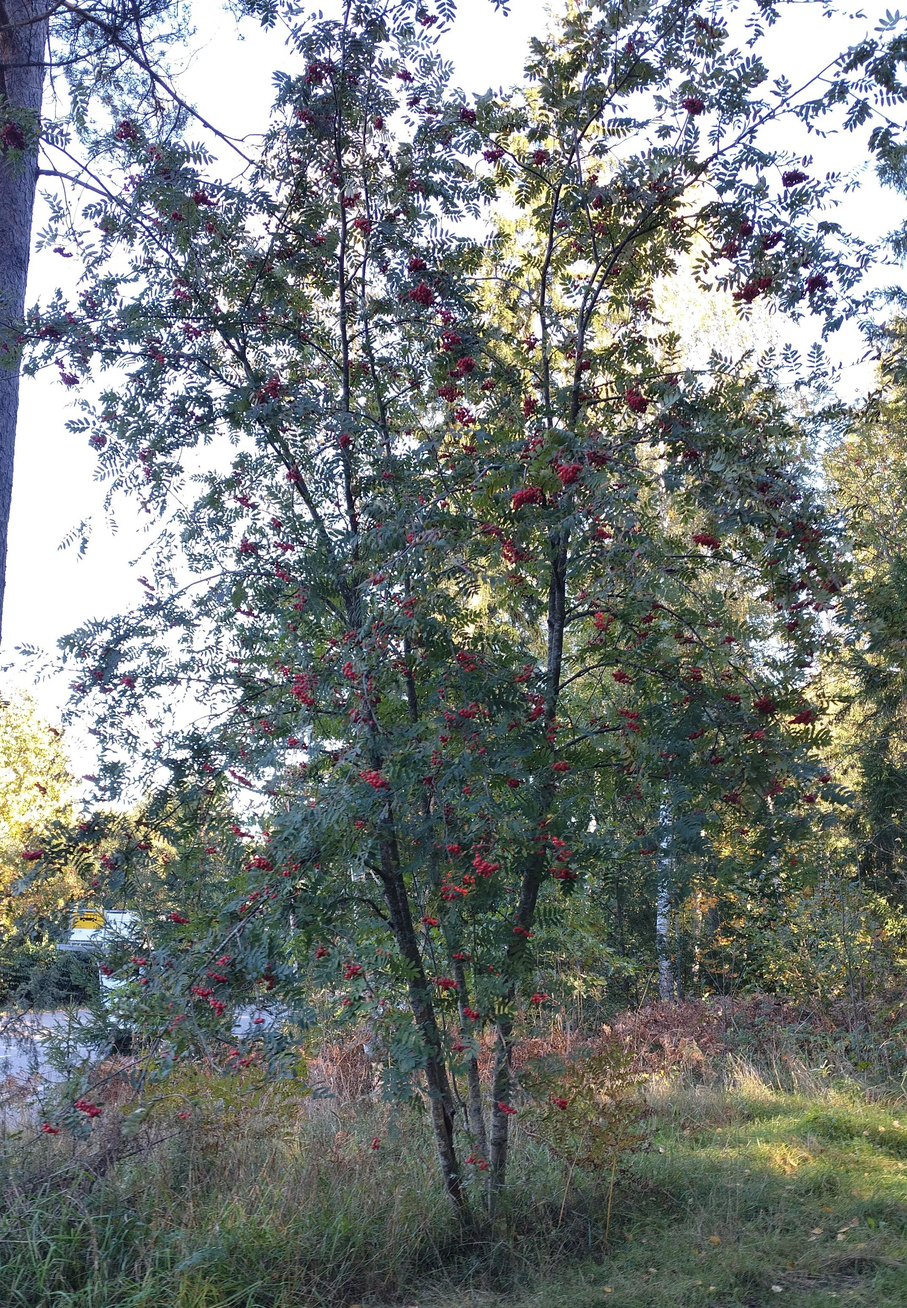Rowan: (183, 1, 839, 1302)
